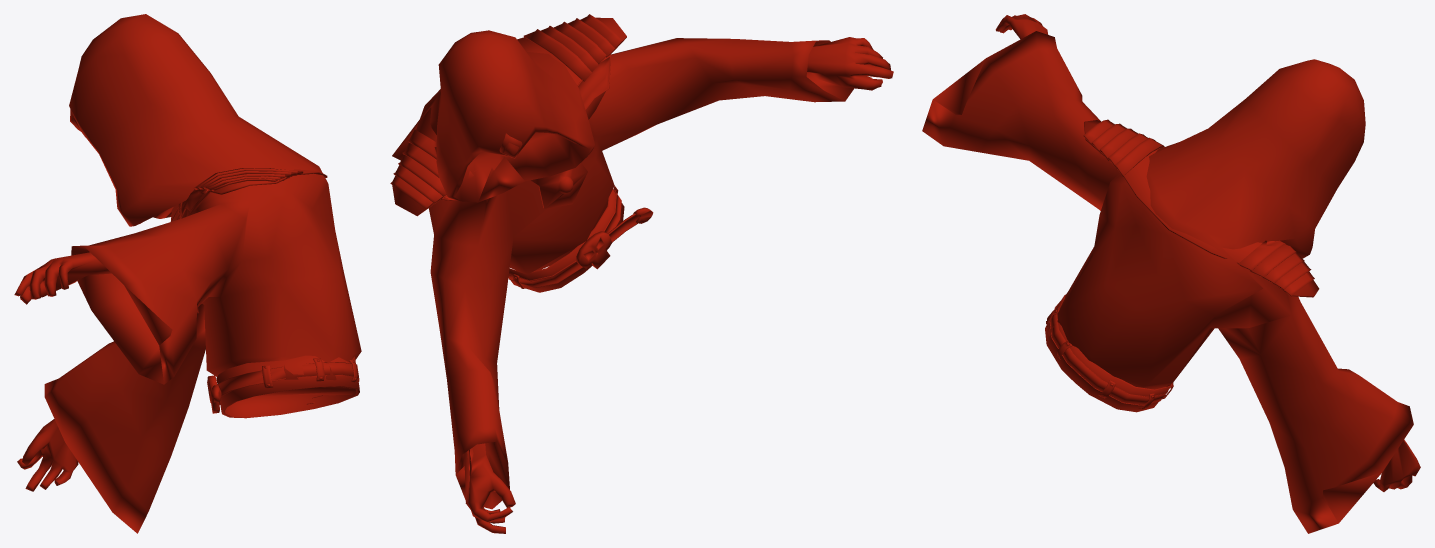
Rendered from top_000064.obj.
The picture shows the model from 3 angles, left to right: view 1: azimuth 30°, elevation 25°; view 2: azimuth 150°, elevation 25°; view 3: azimuth 270°, elevation 25°; orthographic projection. The views are drawn at different scales.
Visible parts, largest first — view 1: LowPoly_Warlock.000_Plane.005; view 2: LowPoly_Warlock.000_Plane.005; view 3: LowPoly_Warlock.000_Plane.005.
Part boxes in pixels (x1,y1,x2,y2): LowPoly_Warlock.000_Plane.005: [14, 14, 361, 533]; LowPoly_Warlock.000_Plane.005: [390, 14, 893, 533]; LowPoly_Warlock.000_Plane.005: [922, 14, 1420, 533].
Bounding box in the file's own units: 1.2 × 1.44 × 1.37.
